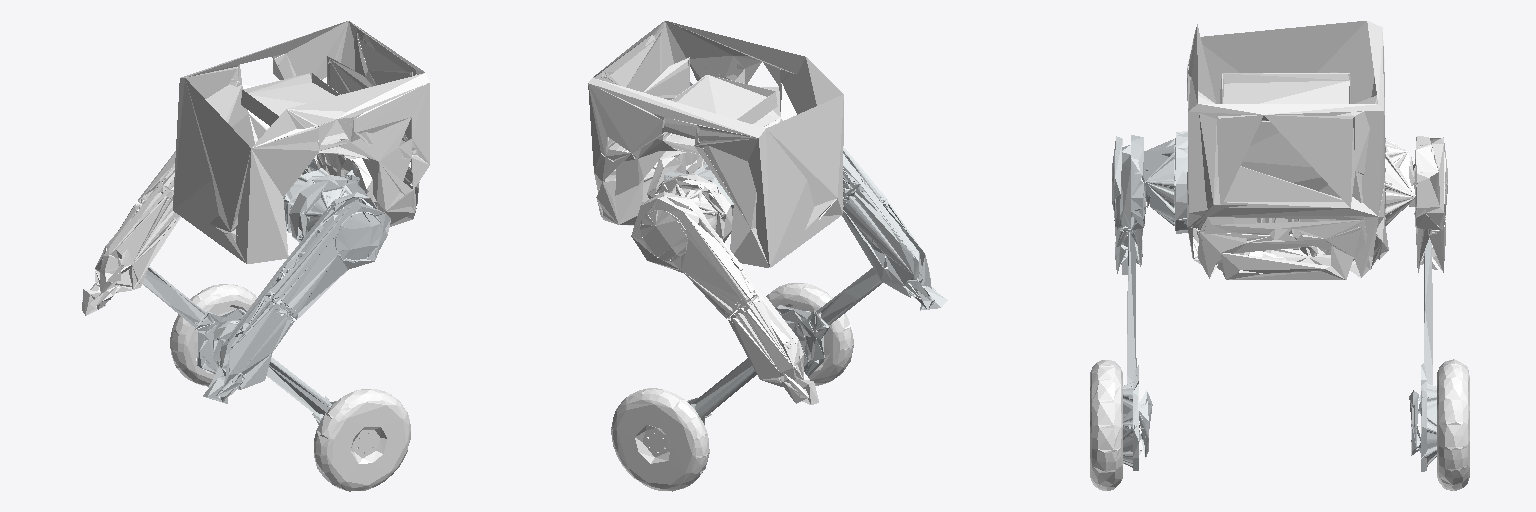
The robot description file, URDF, robot "双轮足腿URDF.SLDASM":
<?xml version="1.0" encoding="utf-8"?>
<!-- This URDF was automatically created by SolidWorks to URDF Exporter! Originally created by Stephen Brawner (brawner@gmail.com) 
     Commit Version: 1.6.0-4-g7f85cfe  Build Version: 1.6.7995.38578
     For more information, please see http://wiki.ros.org/sw_urdf_exporter -->
<robot
  name="双轮足腿URDF.SLDASM">
  <link
    name="base_link">
    <inertial>
      <origin
        xyz="-0.00172337629743656 0.00351501964246692 0.116696890657514"
        rpy="0 0 0" />
      <mass
        value="7.5370707" />
      <inertia
        ixx="0.0553404"
        ixy="-0.0003341"
        ixz="-0.0050779"
        iyy="0.0981545"
        iyz="-0.0000237"
        izz="0.1037058" />
    </inertial>
    <visual>
      <origin
        xyz="0 0 0"
        rpy="0 0 0" />
      <geometry>
        <mesh
          filename="../meshes/base_link.STL" />
      </geometry>
      <material
        name="">
        <color
          rgba="1 1 1 1" />
      </material>
    </visual>
    <collision>
      <origin
        xyz="0 0 0"
        rpy="0 0 0" />
      <geometry>
        <mesh
          filename="../meshes/base_link.STL" />
      </geometry>
    </collision>
  </link>
  <link
    name="left_yaw_link">
    <inertial>
      <origin
        xyz="-0.0215308346661811 -4.99102705892421E-05 0.0447563529326029"
        rpy="0 0 0" />
      <mass
        value="1.1405510" />
      <inertia
        ixx="0.0010100"
        ixy="-0.0000008"
        ixz="0.0000135"
        iyy="0.0008718"
        iyz="0.0000012"
        izz="0.0004340" />
    </inertial>
    <visual>
      <origin
        xyz="0 0 0"
        rpy="0 0 0" />
      <geometry>
        <mesh
          filename="../meshes/left_yaw_link.STL" />
      </geometry>
      <material
        name="">
        <color
          rgba="0.898039215686275 0.917647058823529 0.929411764705882 1" />
      </material>
    </visual>
    <collision>
      <origin
        xyz="0 0 0"
        rpy="0 0 0" />
      <geometry>
        <mesh
          filename="../meshes/left_yaw_link.STL" />
      </geometry>
    </collision>
  </link>
  <joint
    name="left_yaw_joint"
    type="revolute">
    <origin
      xyz="0.034075 0.056503 0.061583"
      rpy="1.5708 0 -1.5708" />
    <parent
      link="base_link" />
    <child
      link="left_yaw_link" />
    <axis
      xyz="0 0 -1" />
    <limit
      lower="-0.3489"
      upper="0.6978"
      effort="100"
      velocity="100" />
  </joint>
  <link
    name="left_hip_pitch_link">
    <inertial>
      <origin
        xyz="-0.0549396669999883 -0.0388954532327574 -0.0324790229475762"
        rpy="0 0 0" />
      <mass
        value="1.7219945" />
      <inertia
        ixx="0.0068887"
        ixy="-0.0060752"
        ixz="-0.0017370"
        iyy="0.0092514"
        iyz="-0.0013122"
        izz="0.0138889" />
    </inertial>
    <visual>
      <origin
        xyz="0 0 0"
        rpy="0 0 0" />
      <geometry>
        <mesh
          filename="../meshes/left_hip_pitch_link.STL" />
      </geometry>
      <material
        name="">
        <color
          rgba="1 1 1 1" />
      </material>
    </visual>
    <collision>
      <origin
        xyz="0 0 0"
        rpy="0 0 0" />
      <geometry>
        <mesh
          filename="../meshes/left_hip_pitch_link.STL" />
      </geometry>
    </collision>
  </link>
  <joint
    name="left_hip_pitch_joint"
    type="revolute">
    <origin
      xyz="-0.069997 -0.0010952 0.060082"
      rpy="0 1.5708 0" />
    <parent
      link="left_yaw_link" />
    <child
      link="left_hip_pitch_link" />
    <axis
      xyz="0 0 -1" />
    <limit
      lower="-3.14"
      upper="3.14"
      effort="100"
      velocity="100" />
  </joint>
  <link
    name="left_knee_link">
    <inertial>
      <origin
        xyz="-0.112370333720838 -0.112602733656599 -0.0030665788909377"
        rpy="0 0 0" />
      <mass
        value="1.2100000" />
      <inertia
        ixx="0.0029586"
        ixy="-0.0026493"
        ixz="0.0002013"
        iyy="0.0029615"
        iyz="0.0001991"
        izz="0.0057457" />
    </inertial>
    <visual>
      <origin
        xyz="0 0 0"
        rpy="0 0 0" />
      <geometry>
        <mesh
          filename="../meshes/left_knee_link.STL" />
      </geometry>
      <material
        name="">
        <color
          rgba="0.898039215686275 0.917647058823529 0.929411764705882 1" />
      </material>
    </visual>
    <collision>
      <origin
        xyz="0 0 0"
        rpy="0 0 0" />
      <geometry>
        <mesh
          filename="../meshes/left_knee_link.STL" />
      </geometry>
    </collision>
  </link>
  <joint
    name="left_knee_joint"
    type="revolute">
    <origin
      xyz="-0.16255 -0.16154 -0.0595"
      rpy="3.1416 0 3.1416" />
    <parent
      link="left_hip_pitch_link" />
    <child
      link="left_knee_link" />
    <axis
      xyz="0 0 1" />
    <limit
      lower="-1.134"
      upper="0.75049"
      effort="100"
      velocity="100" />
  </joint>
  <link
    name="left_wheel_link">
    <inertial>
      <origin
        xyz="7.21644966006352E-16 7.7715611723761E-16 -0.00887809087424776"
        rpy="0 0 0" />
      <mass
        value="0.2200000" />
      <inertia
        ixx="0.0004356"
        ixy="0"
        ixz="0"
        iyy="0.0004356"
        iyz="0"
        izz="0.0008222" />
    </inertial>
    <visual>
      <origin
        xyz="0 0 0"
        rpy="0 0 0" />
      <geometry>
        <mesh
          filename="../meshes/left_wheel_link.STL" />
      </geometry>
      <material
        name="">
        <color
          rgba="1 1 1 1" />
      </material>
    </visual>
    <collision>
      <origin
        xyz="0 0 0"
        rpy="0 0 0" />
      <geometry>
        <mesh
          filename="../meshes/left_wheel_link.STL" />
      </geometry>
    </collision>
  </link>
  <joint
    name="left_wheel_joint"
    type="continuous">
    <origin
      xyz="-0.16263 -0.16263 0.0368"
      rpy="0 0 0" />
    <parent
      link="left_knee_link" />
    <child
      link="left_wheel_link" />
    <axis
      xyz="0 0 1" />
    <limit
      lower="-3.14"
      upper="3.14"
      effort="100"
      velocity="100" />
  </joint>
  <link
    name="right_yaw_link">
    <inertial>
      <origin
        xyz="0.0215308346661813 4.99102705913425E-05 0.0447705165513011"
        rpy="0 0 0" />
      <mass
        value="1.1405510" />
      <inertia
        ixx="0.0010107"
        ixy="-0.0000008"
        ixz="-0.0000135"
        iyy="0.0008724"
        iyz="-0.0000012"
        izz="0.0004340" />
    </inertial>
    <visual>
      <origin
        xyz="0 0 0"
        rpy="0 0 0" />
      <geometry>
        <mesh
          filename="../meshes/right_yaw_link.STL" />
      </geometry>
      <material
        name="">
        <color
          rgba="0.898039215686275 0.917647058823529 0.929411764705882 1" />
      </material>
    </visual>
    <collision>
      <origin
        xyz="0 0 0"
        rpy="0 0 0" />
      <geometry>
        <mesh
          filename="../meshes/right_yaw_link.STL" />
      </geometry>
    </collision>
  </link>
  <joint
    name="right_yaw_joint"
    type="revolute">
    <origin
      xyz="0.034075 -0.056503 0.061583"
      rpy="1.5708 0 -1.5708" />
    <parent
      link="base_link" />
    <child
      link="right_yaw_link" />
    <axis
      xyz="0 0 -1" />
    <limit
      lower="-0.3489"
      upper="0.6978"
      effort="100"
      velocity="100" />
  </joint>
  <link
    name="right_hip_pitch_link">
    <inertial>
      <origin
        xyz="-0.0549396742679706 -0.0409954166793796 0.0324790691623148"
        rpy="0 0 0" />
      <mass
        value="1.7219945" />
      <inertia
        ixx="0.0068882"
        ixy="-0.0060720"
        ixz="0.0017370"
        iyy="0.0092514"
        iyz="0.0013144"
        izz="0.0138884" />
    </inertial>
    <visual>
      <origin
        xyz="0 0 0"
        rpy="0 0 0" />
      <geometry>
        <mesh
          filename="../meshes/right_hip_pitch_link.STL" />
      </geometry>
      <material
        name="">
        <color
          rgba="0.898039215686275 0.917647058823529 0.929411764705882 1" />
      </material>
    </visual>
    <collision>
      <origin
        xyz="0 0 0"
        rpy="0 0 0" />
      <geometry>
        <mesh
          filename="../meshes/right_hip_pitch_link.STL" />
      </geometry>
    </collision>
  </link>
  <joint
    name="right_hip_pitch_joint"
    type="revolute">
    <origin
      xyz="0.069997 0.0010952 0.060082"
      rpy="0 1.5708 0" />
    <parent
      link="right_yaw_link" />
    <child
      link="right_hip_pitch_link" />
    <axis
      xyz="0 0 1" />
    <limit
      lower="-3.14"
      upper="3.14"
      effort="100"
      velocity="100" />
  </joint>
  <link
    name="right_knee_link">
    <inertial>
      <origin
        xyz="0.112607138154745 -0.112418769168268 -0.00306657888840831"
        rpy="0 0 0" />
      <mass
        value="1.2100000" />
      <inertia
        ixx="0.0029667"
        ixy="0.0026522"
        ixz="-0.0002002"
        iyy="0.0029591"
        iyz="0.0002003"
        izz="0.0057515" />
    </inertial>
    <visual>
      <origin
        xyz="0 0 0"
        rpy="0 0 0" />
      <geometry>
        <mesh
          filename="../meshes/right_knee_link.STL" />
      </geometry>
      <material
        name="">
        <color
          rgba="0.898039215686275 0.917647058823529 0.929411764705882 1" />
      </material>
    </visual>
    <collision>
      <origin
        xyz="0 0 0"
        rpy="0 0 0" />
      <geometry>
        <mesh
          filename="../meshes/right_knee_link.STL" />
      </geometry>
    </collision>
  </link>
  <joint
    name="right_knee_joint"
    type="revolute">
    <origin
      xyz="-0.16255 -0.16373 0.0595"
      rpy="0 0 0" />
    <parent
      link="right_hip_pitch_link" />
    <child
      link="right_knee_link" />
    <axis
      xyz="0 0 1" />
    <limit
      lower="-1.134"
      upper="0.75049"
      effort="100"
      velocity="100" />
  </joint>
  <link
    name="right_wheel_link">
    <inertial>
      <origin
        xyz="-1.38777878078145E-17 -5.55111512312578E-17 -0.00887809087424773"
        rpy="0 0 0" />
      <mass
        value="0.2200000" />
      <inertia
        ixx="0.0004356"
        ixy="0"
        ixz="0"
        iyy="0.0004356"
        iyz="0"
        izz="0.0008222" />
    </inertial>
    <visual>
      <origin
        xyz="0 0 0"
        rpy="0 0 0" />
      <geometry>
        <mesh
          filename="../meshes/right_wheel_link.STL" />
      </geometry>
      <material
        name="">
        <color
          rgba="1 1 1 1" />
      </material>
    </visual>
    <collision>
      <origin
        xyz="0 0 0"
        rpy="0 0 0" />
      <geometry>
        <mesh
          filename="../meshes/right_wheel_link.STL" />
      </geometry>
    </collision>
  </link>
  <joint
    name="right_wheel_joint"
    type="continuous">
    <origin
      xyz="0.16263 -0.16263 0.0368"
      rpy="0 0 0" />
    <parent
      link="right_knee_link" />
    <child
      link="right_wheel_link" />
    <axis
      xyz="0 0 1" />
  </joint>
</robot>

--- Render facts (derived) ---
The picture shows the robot from 3 angles, left to right: view 1: azimuth 30°, elevation 25°; view 2: azimuth 150°, elevation 25°; view 3: azimuth 270°, elevation 25°; orthographic projection.
Robot: 双轮足腿URDF.SLDASM — 9 links, 8 joints (6 revolute, 2 continuous); root link base_link; default pose: every joint at zero.
Links seen in each view (by area): view 1: base_link, right_hip_pitch_link, right_wheel_link, left_hip_pitch_link, left_knee_link, left_wheel_link, right_knee_link, right_yaw_link; view 2: base_link, left_hip_pitch_link, left_wheel_link, right_hip_pitch_link, right_knee_link, right_wheel_link, left_knee_link; view 3: base_link, right_hip_pitch_link, left_hip_pitch_link, right_wheel_link, left_wheel_link, right_knee_link, left_knee_link.
Link boxes in pixels (x1,y1,x2,y2): base_link: (173,21,429,263); right_hip_pitch_link: (203,175,390,403); right_wheel_link: (314,389,410,491); left_hip_pitch_link: (82,151,180,315); left_knee_link: (143,267,245,373); left_wheel_link: (170,284,256,386); right_knee_link: (231,334,336,424); right_yaw_link: (283,168,359,232); base_link: (588,21,843,267); left_hip_pitch_link: (631,174,818,404); left_wheel_link: (611,388,709,491); right_hip_pitch_link: (842,146,947,310); right_knee_link: (776,258,886,376); right_wheel_link: (766,283,853,385); left_knee_link: (687,358,756,424); base_link: (1187,21,1388,279); right_hip_pitch_link: (1112,131,1187,274); left_hip_pitch_link: (1384,136,1447,272); right_wheel_link: (1090,360,1122,490); left_wheel_link: (1437,359,1469,490); right_knee_link: (1123,231,1152,470); left_knee_link: (1409,238,1436,471).
Size in the robot's own frame: 0.4374 by 0.4616 by 0.5907 metres.
9 mesh visuals loaded from 9 distinct referenced files (9 binary STL).
